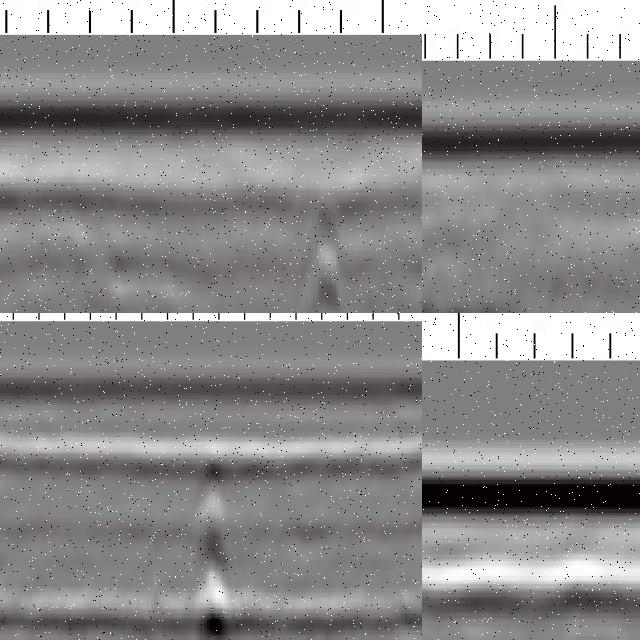crack: (192, 441, 235, 640), (303, 199, 349, 314)
